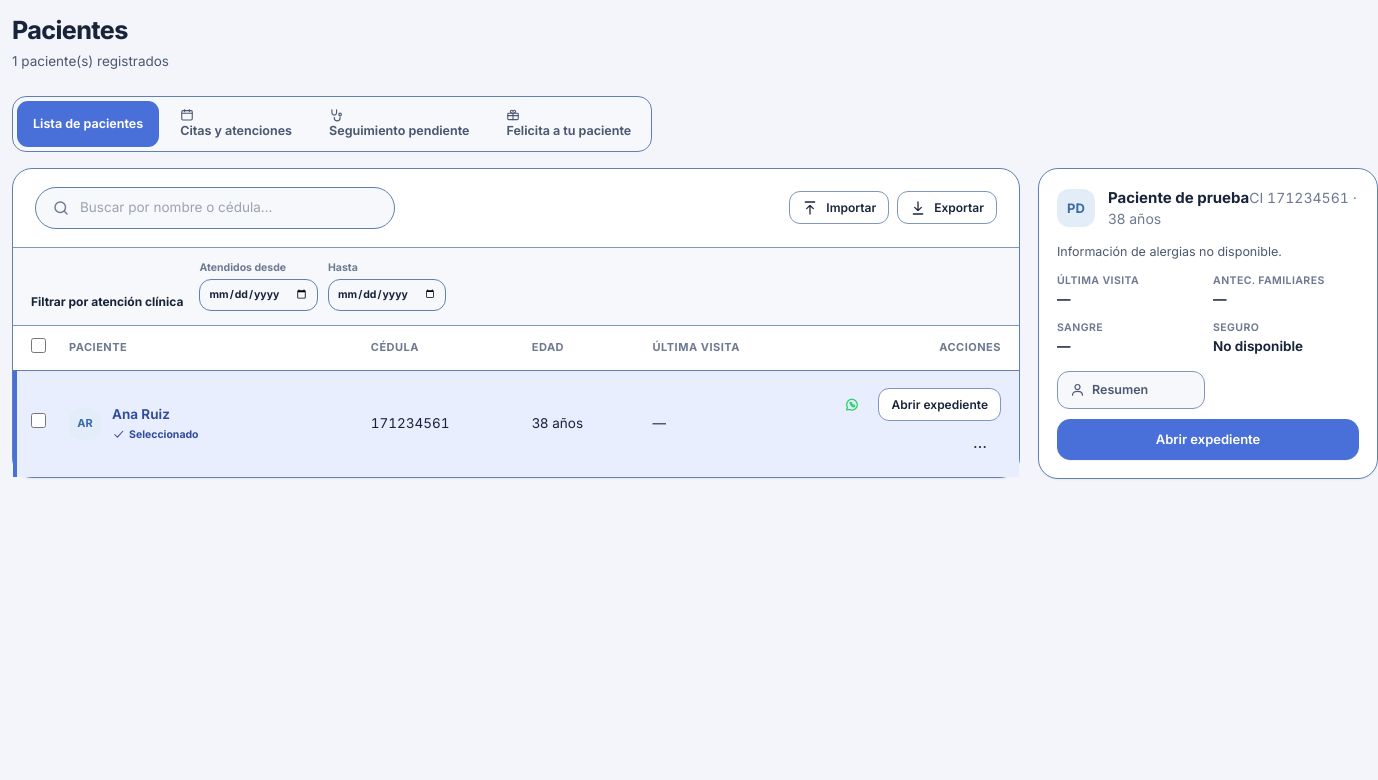
Test: Eliminar pacientes › la barra de selección solo aparece cuando hay algo marcado
expect the text "Ana Ruiz" is shown: met, box [112,406,170,422]
expect the button "Quitar selección" is not shown: met
Click the checkbox named "Marcar a Ana Ruiz": [38, 421] box [31,413,46,428]
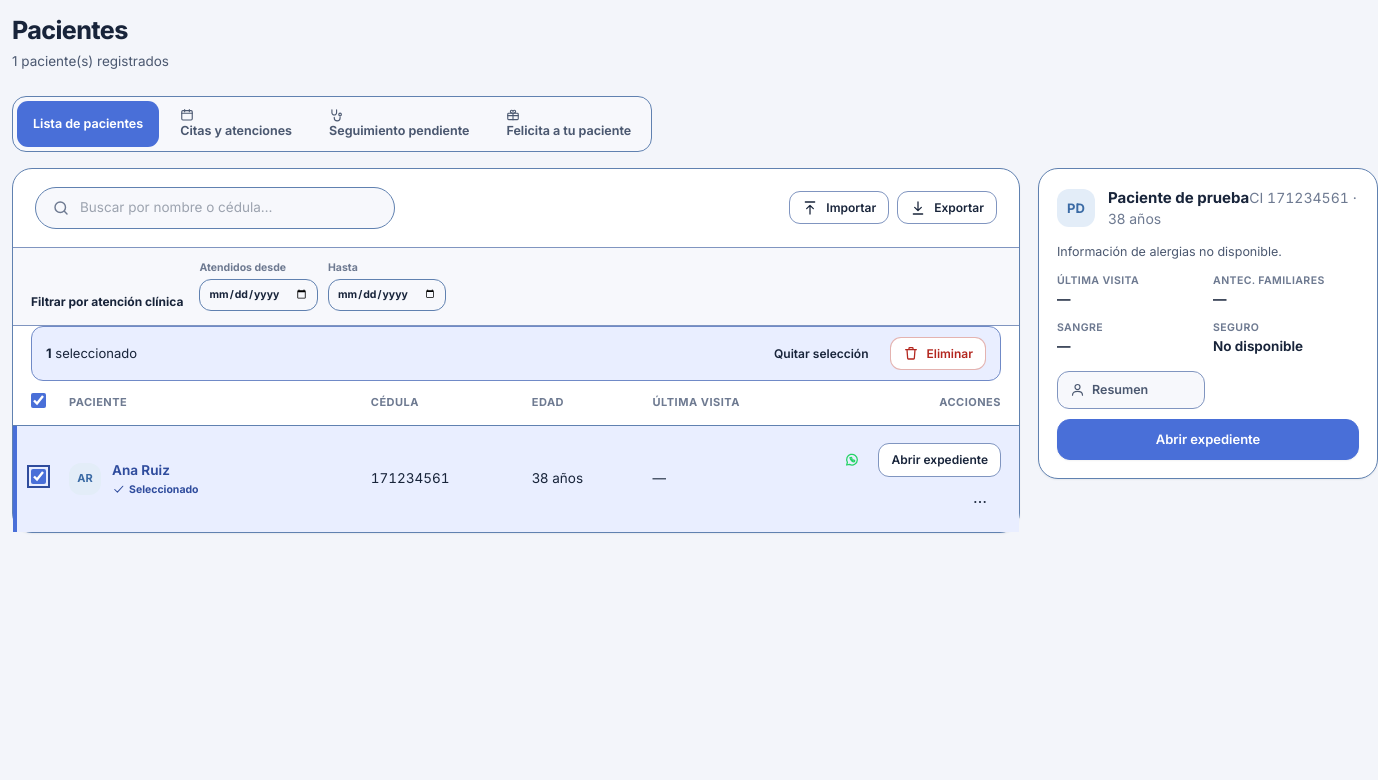
expect the button "Quitar selección" is shown: met
Click the button "Quitar selección": [821, 353] box [761,337,882,370]
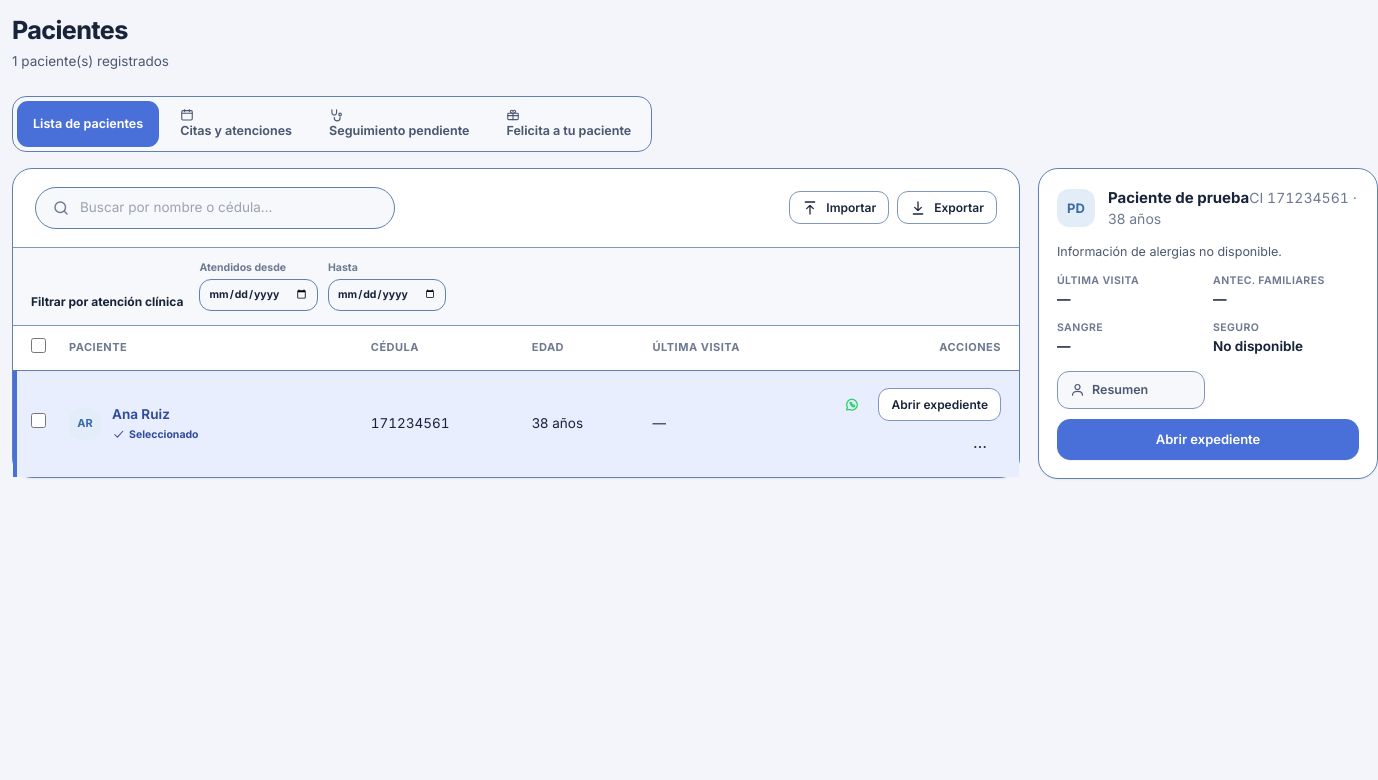
expect the button "Quitar selección" is gone: met
